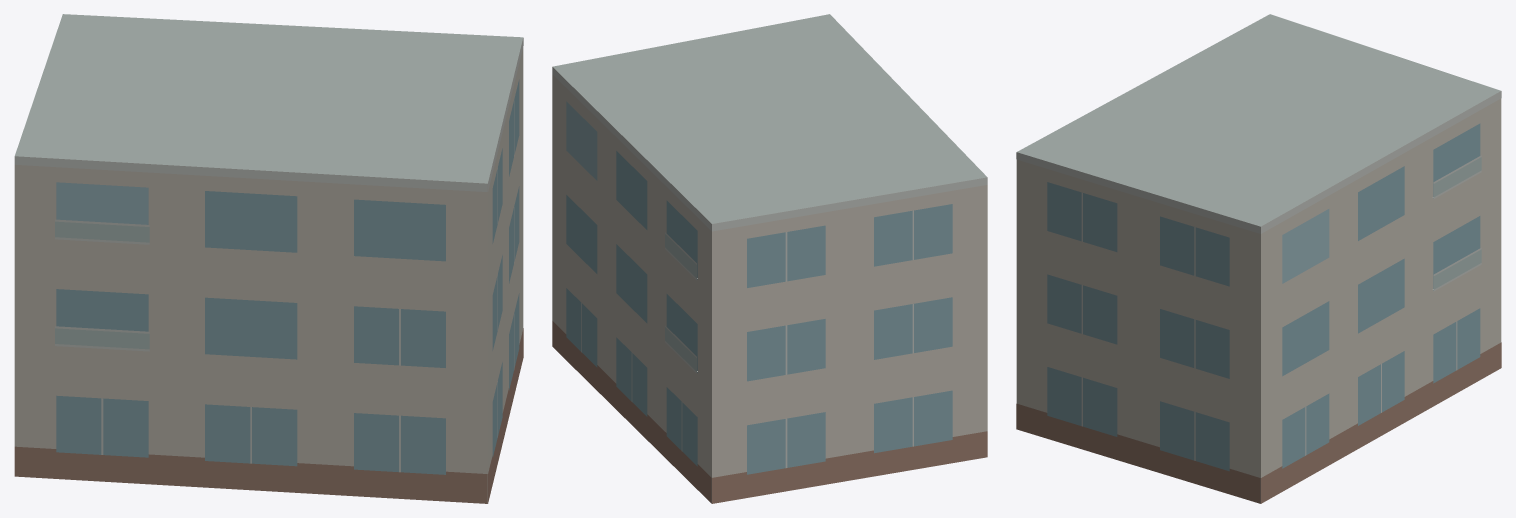
Rendered from survey-upis-32897581.glb.
3 renders of one model, left to right at view 1: azimuth 30°, elevation 25°; view 2: azimuth 150°, elevation 25°; view 3: azimuth 270°, elevation 25°, orthographic. The views are drawn at different scales.
Parts seen in each view (by area): view 1: survey-upis-32897581.tmp; view 2: survey-upis-32897581.tmp; view 3: survey-upis-32897581.tmp.
Boxes of the visible parts, x1,y1,x2,y2 form: survey-upis-32897581.tmp: (14,14,523,503); survey-upis-32897581.tmp: (552,14,987,503); survey-upis-32897581.tmp: (1016,14,1501,503).
Size of the model in its own units: 15.06 by 9.15 by 14.51.
